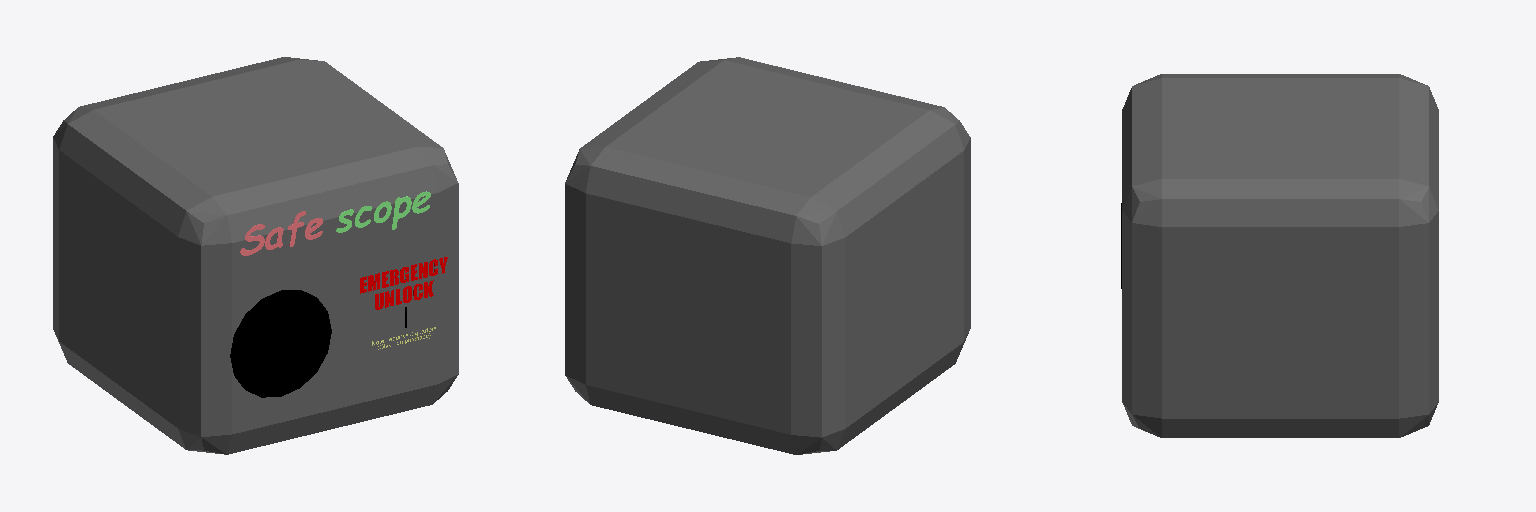
File: SafescopeSafe.obj
The picture shows the model from 3 angles: view 1: azimuth 30°, elevation 25°; view 2: azimuth 150°, elevation 25°; view 3: azimuth 270°, elevation 25°; orthographic projection.
Visible parts, largest first — view 1: mesh01, mesh40; view 2: mesh01; view 3: mesh01.
Boxes of the visible parts, box(x1,y1,x2,y2) form: mesh01: box(53, 57, 458, 454); mesh40: box(230, 290, 331, 397); mesh01: box(565, 57, 970, 454); mesh01: box(1122, 74, 1438, 437).
Size of the model in its own units: 99.49 by 88.49 by 99.84.